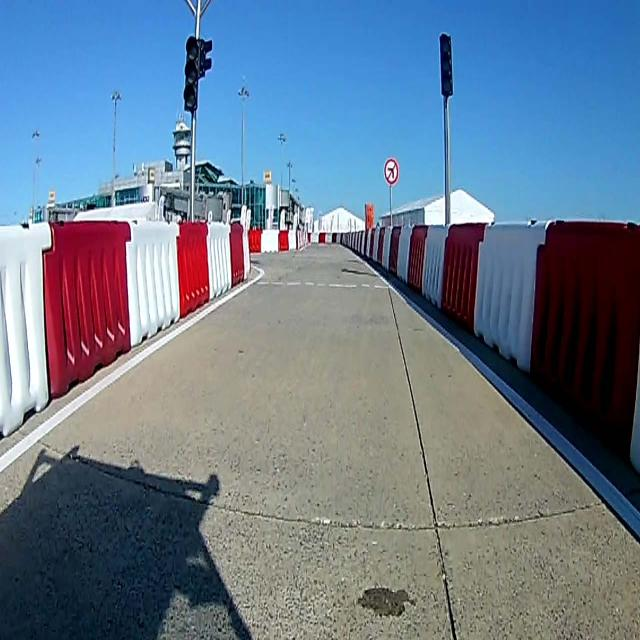soladonulmez: (384, 158, 398, 185)
